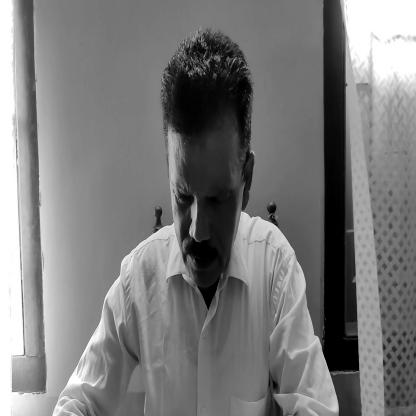Normal: (165, 48, 258, 291)
